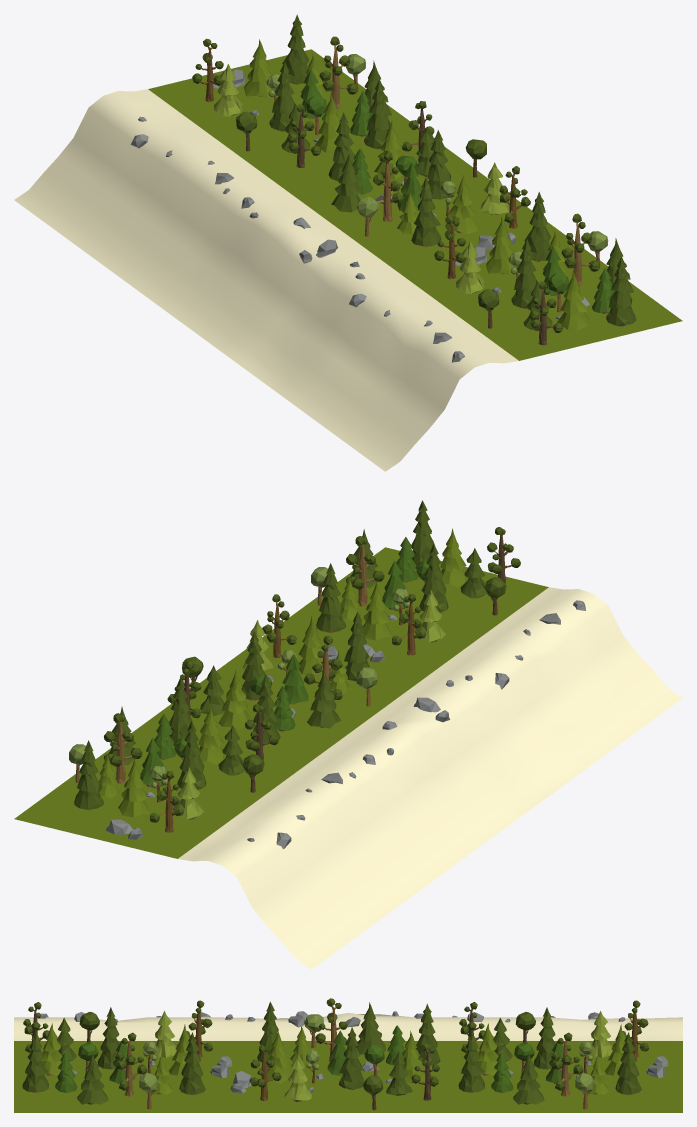
Rendered from canoeTerrain_NO.gltf.
The picture shows the model from 3 angles, top to bottom: view 1: azimuth 30°, elevation 25°; view 2: azimuth 150°, elevation 25°; view 3: azimuth 270°, elevation 25°; orthographic projection. The views are drawn at different scales.
Visible parts, largest first — view 1: canoeTerrain; view 2: canoeTerrain; view 3: canoeTerrain.
Boxes of the visible parts, x1,y1,x2,y2 form: canoeTerrain: (14,14,682,471); canoeTerrain: (14,500,682,969); canoeTerrain: (14,998,682,1112).
Bounding box in the file's own units: 79.38 × 37.11 × 170.
